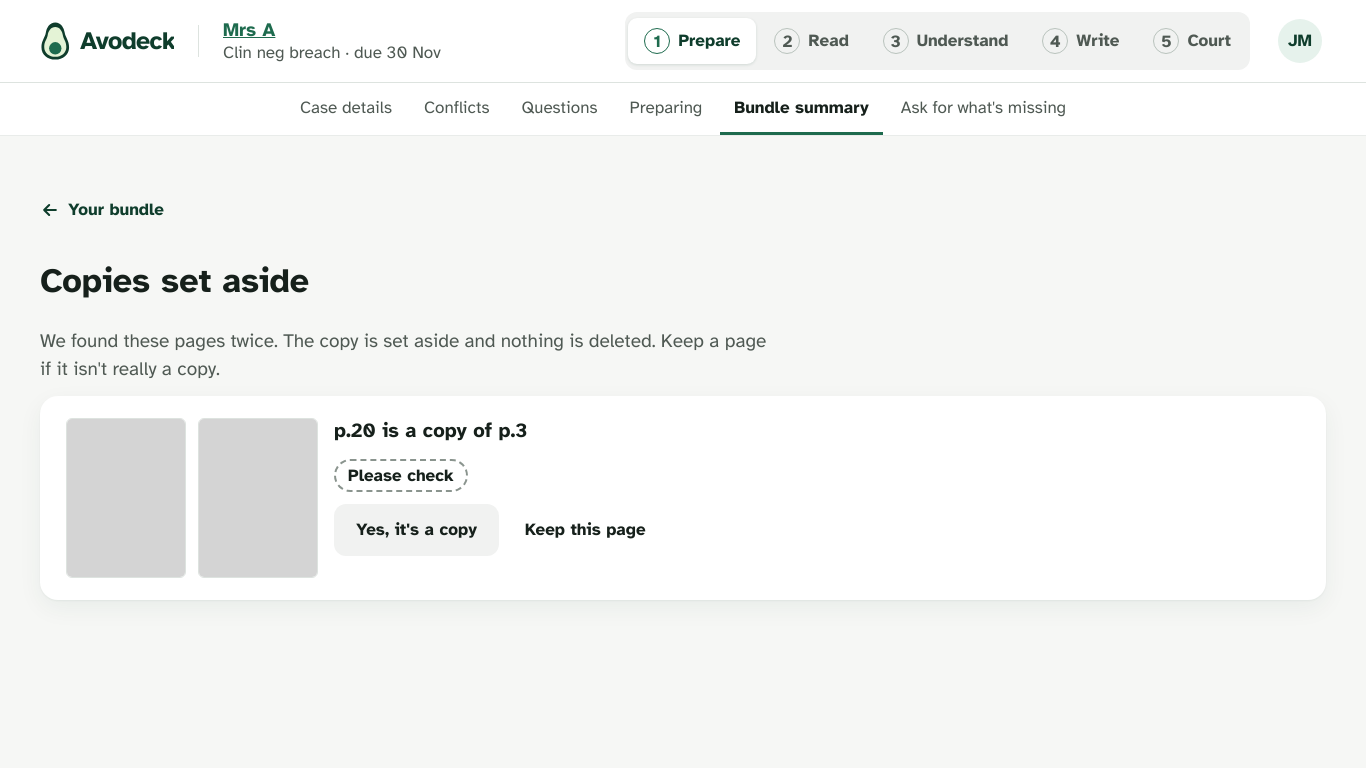
Test: Copies under the launch packs › confirming a copy sends the version it loaded
The width and height of the screenshot is (1366, 768).
Click the button "Yes, it's a copy" at (416, 530), box [334,504,499,556]
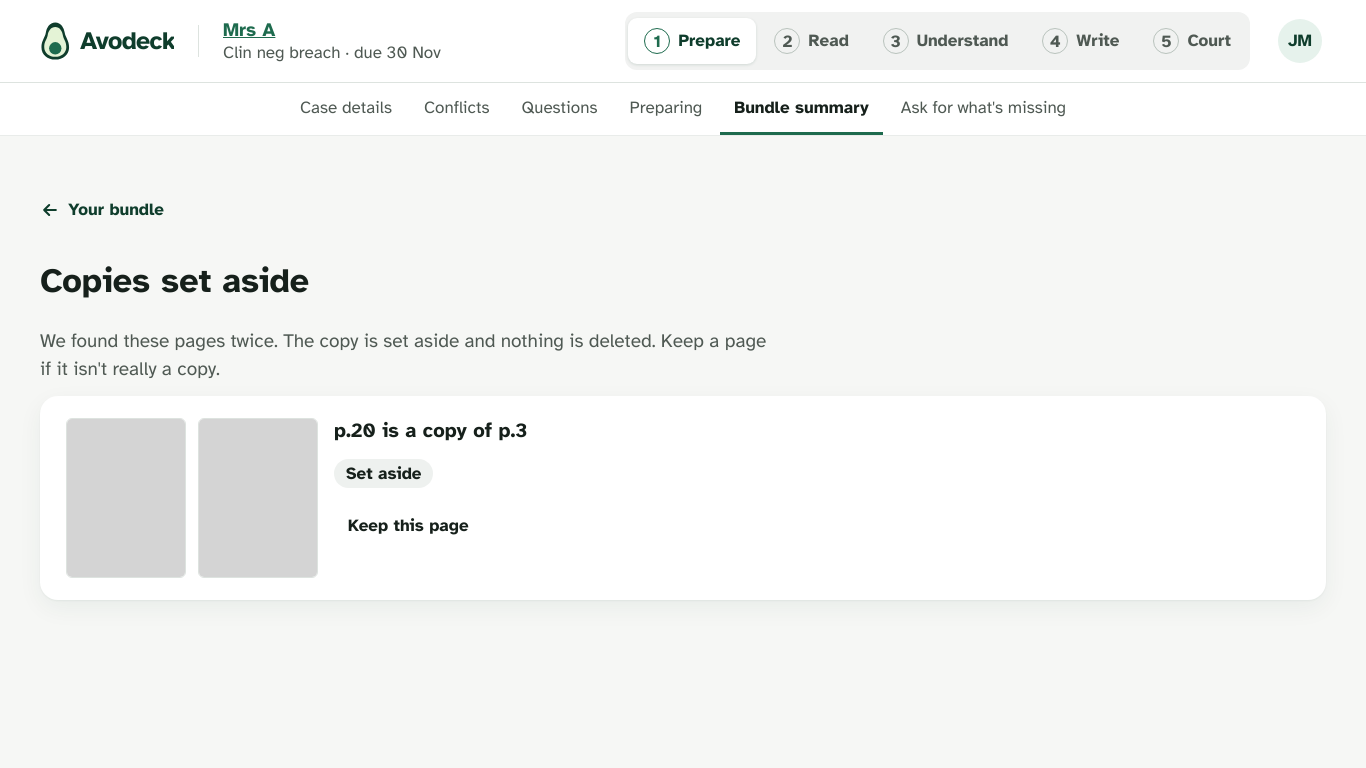
Check: the text "Set aside" is shown, box [334,458,433,488]
